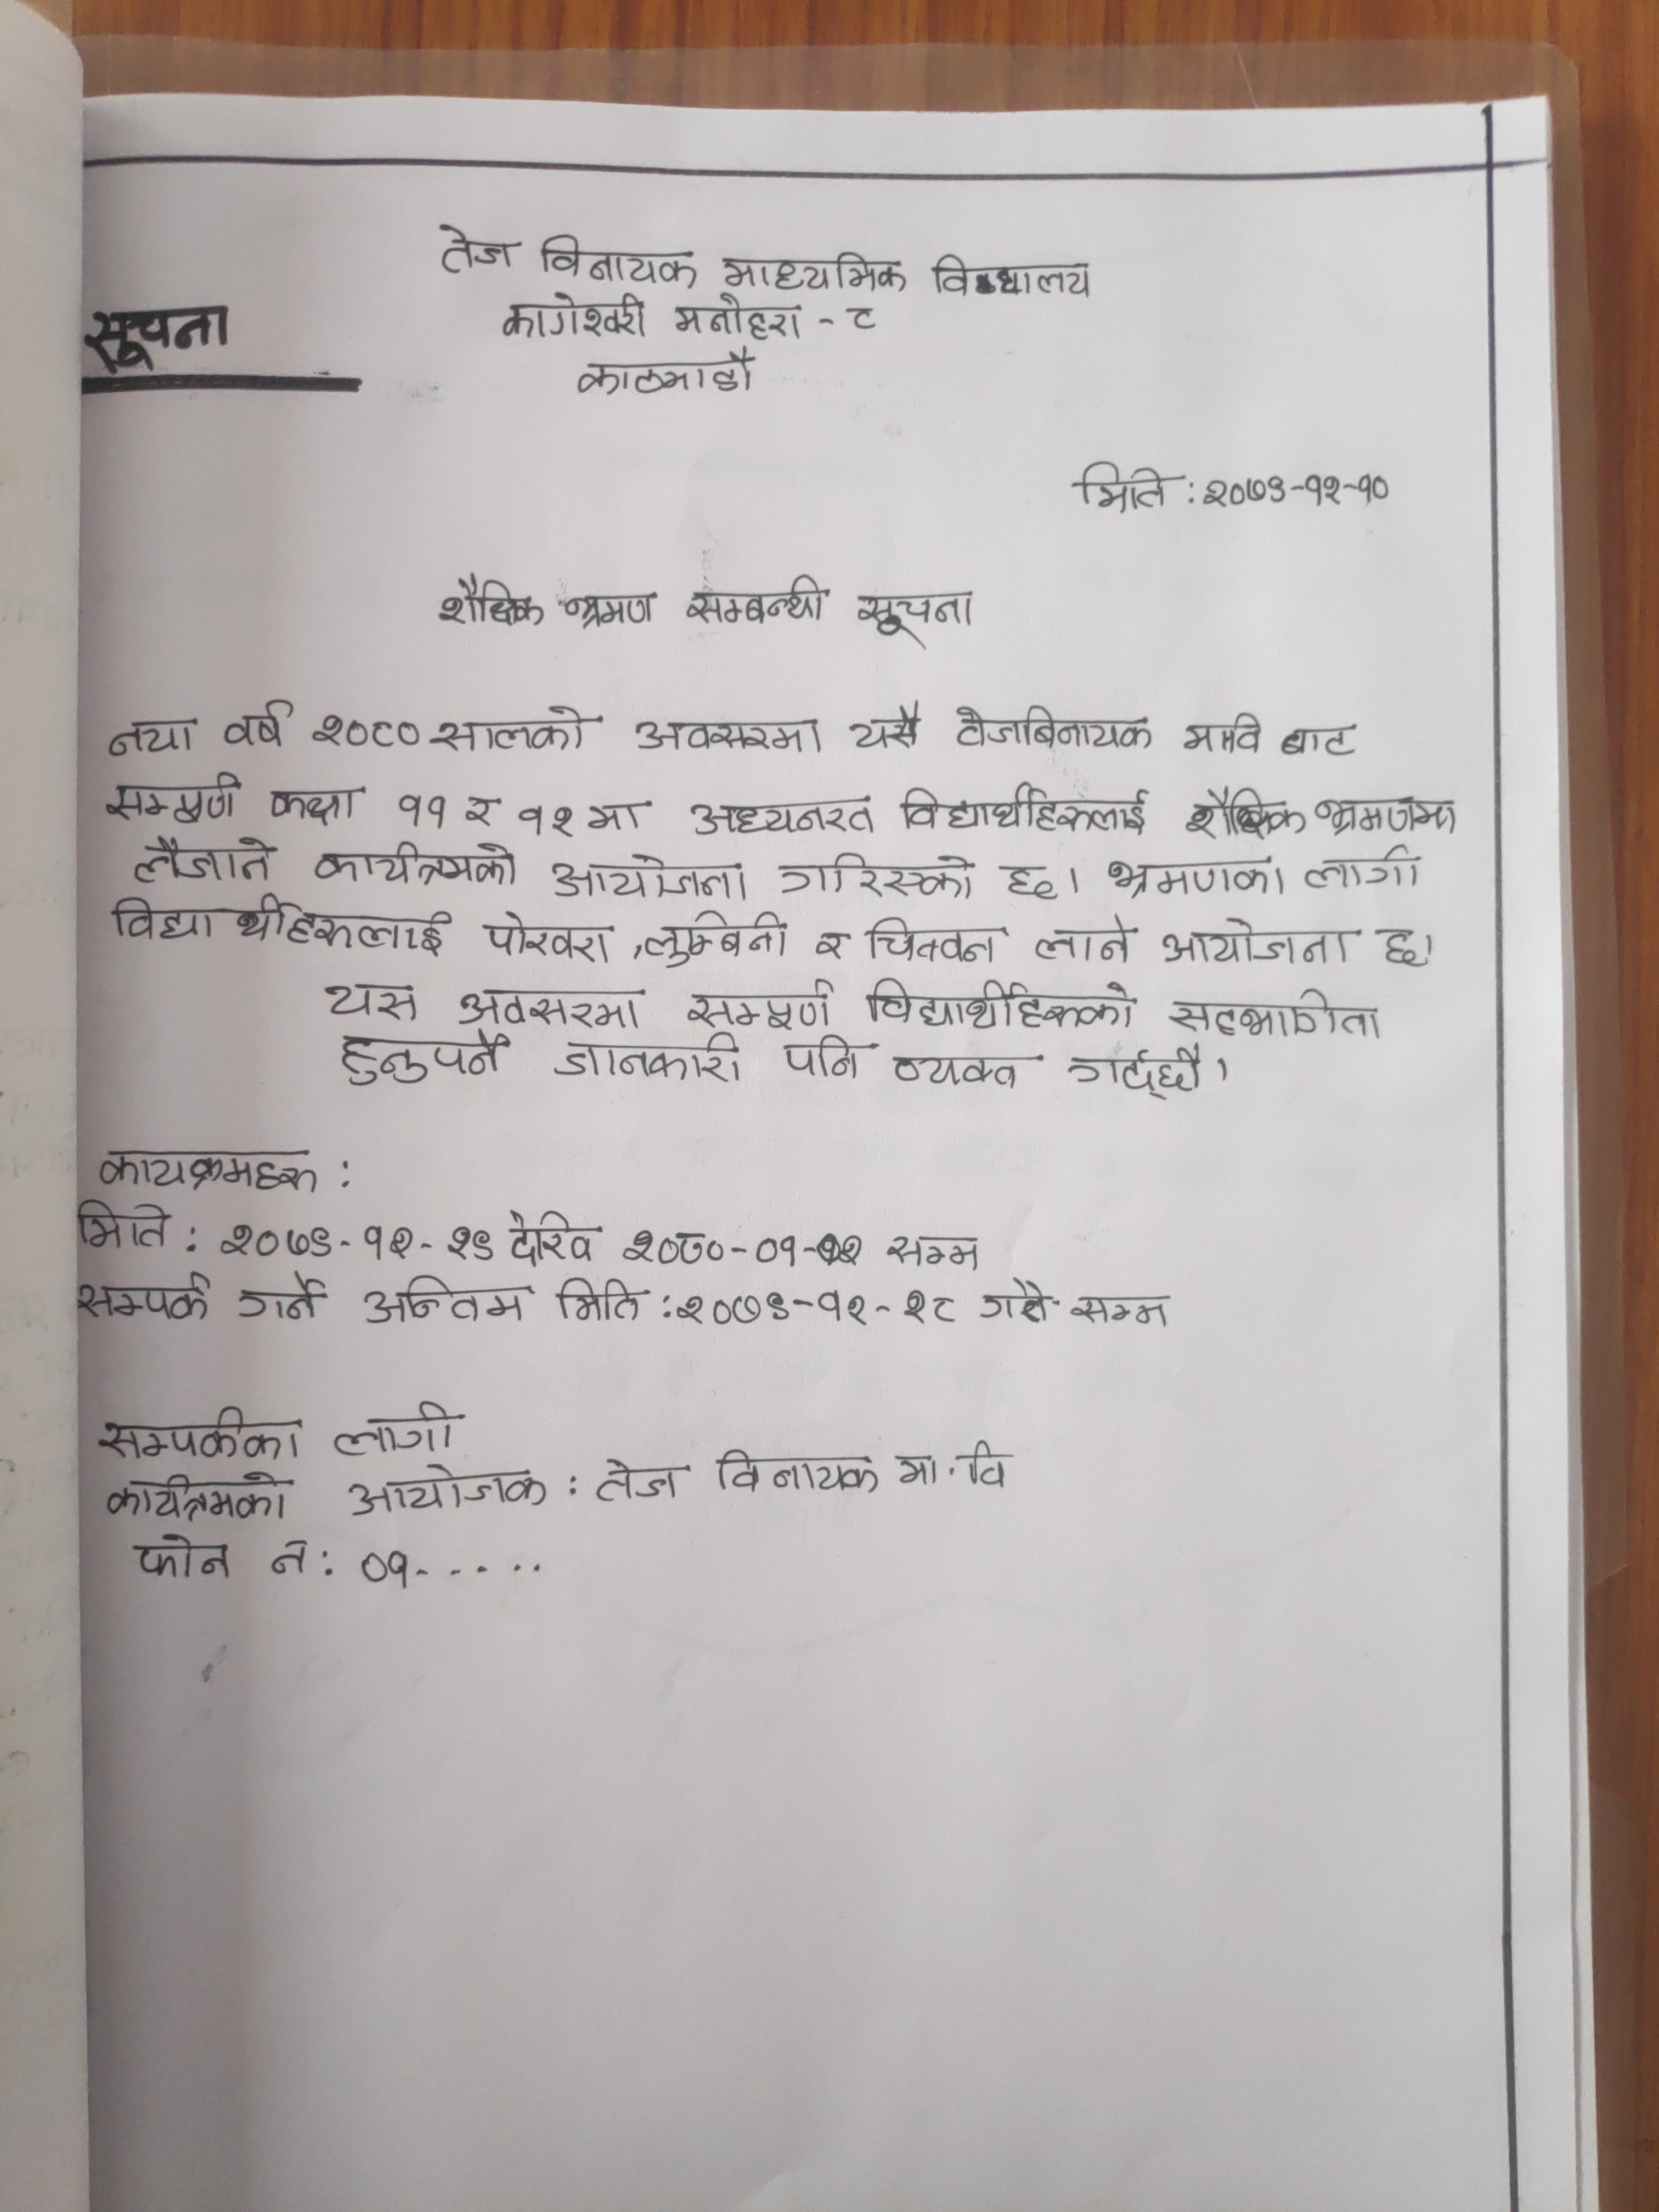text: (99, 888, 462, 958), (852, 968, 1134, 1040), (207, 1211, 500, 1271), (892, 782, 1161, 841), (676, 1278, 962, 1332), (338, 1454, 559, 1521), (1161, 981, 1394, 1043), (94, 1404, 308, 1470), (92, 1139, 326, 1198), (549, 845, 755, 909), (716, 239, 915, 305), (1147, 907, 1361, 968), (308, 834, 530, 892), (620, 1221, 871, 1271), (775, 845, 981, 904), (333, 1019, 512, 1085), (915, 244, 1101, 307), (626, 702, 823, 761), (950, 702, 1159, 758), (706, 1433, 884, 1498), (99, 1470, 298, 1526), (568, 345, 760, 402), (683, 787, 878, 843), (99, 763, 254, 833), (1065, 1038, 1213, 1109), (82, 308, 242, 371), (1101, 852, 1293, 904), (1197, 465, 1394, 516), (547, 1038, 744, 1089), (530, 230, 701, 287), (444, 981, 645, 1029), (497, 282, 652, 345), (866, 906, 1014, 970), (361, 1275, 542, 1327), (328, 1395, 469, 1460), (430, 700, 601, 752), (880, 1433, 1026, 1494), (122, 831, 286, 885), (476, 906, 620, 965), (676, 984, 840, 1036), (849, 580, 978, 646), (880, 1042, 1030, 1097), (75, 1273, 213, 1332), (1309, 791, 1464, 843), (641, 916, 793, 968), (678, 573, 824, 627), (429, 575, 547, 639), (584, 1449, 694, 1517), (1176, 782, 1300, 840), (662, 294, 807, 341), (1065, 456, 1176, 517), (94, 709, 207, 768), (310, 702, 425, 759), (125, 1533, 244, 1588), (500, 1204, 601, 1268), (1019, 907, 1129, 967), (310, 972, 430, 1026), (228, 1261, 321, 1331), (1298, 845, 1429, 894), (70, 1190, 171, 1252), (772, 1029, 880, 1085), (422, 219, 528, 275), (545, 1273, 648, 1329), (558, 583, 664, 632), (971, 1273, 1060, 1331), (1060, 1294, 1183, 1334), (882, 1226, 990, 1271), (267, 779, 366, 826), (221, 693, 293, 758), (352, 1538, 425, 1599), (1183, 711, 1263, 765), (1274, 719, 1366, 763), (852, 698, 927, 749), (587, 784, 655, 836), (390, 782, 457, 831), (999, 853, 1068, 897), (516, 803, 586, 841), (267, 1540, 315, 1594), (1373, 920, 1427, 967), (816, 921, 854, 958), (464, 794, 502, 829)
